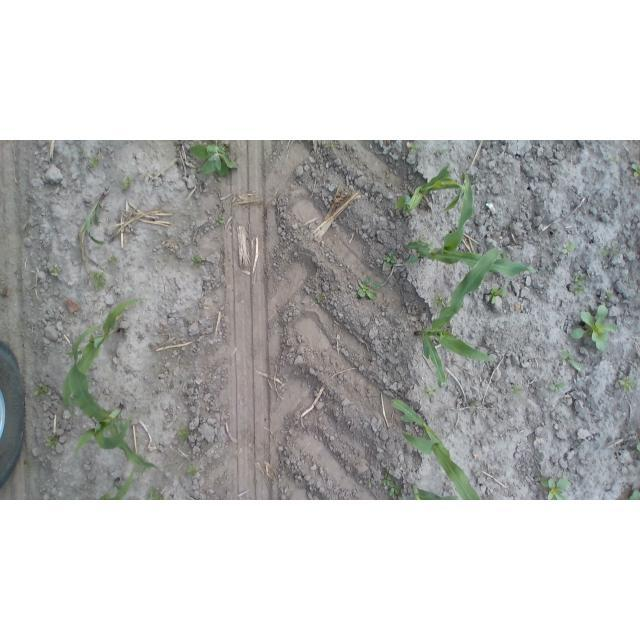Maize: (402, 171, 533, 279), (69, 321, 159, 470), (413, 246, 508, 387), (60, 298, 151, 412), (388, 396, 480, 500), (398, 162, 465, 215), (76, 187, 112, 274), (99, 463, 137, 500), (410, 483, 459, 500)
Weeds: (570, 302, 619, 351), (186, 141, 240, 180), (539, 476, 571, 500), (382, 469, 405, 500), (354, 276, 382, 300), (559, 350, 586, 374), (569, 272, 588, 299), (89, 270, 107, 292), (618, 373, 636, 394), (489, 286, 507, 306), (561, 239, 580, 256), (382, 249, 398, 267), (45, 431, 59, 451), (145, 486, 165, 500), (550, 377, 566, 393), (175, 424, 189, 441), (35, 384, 50, 399), (425, 384, 439, 399), (191, 254, 204, 269), (48, 263, 61, 278), (88, 155, 100, 169), (123, 174, 133, 190), (434, 293, 444, 308), (632, 160, 640, 178), (628, 488, 640, 500), (409, 141, 419, 155), (325, 142, 336, 154), (215, 215, 226, 226), (316, 292, 326, 304), (510, 385, 522, 395), (188, 465, 197, 478), (106, 256, 118, 265), (608, 241, 618, 251), (598, 245, 606, 256), (368, 477, 376, 487), (605, 290, 613, 299), (610, 155, 619, 162), (441, 148, 448, 156), (335, 287, 342, 294), (636, 441, 640, 453)
